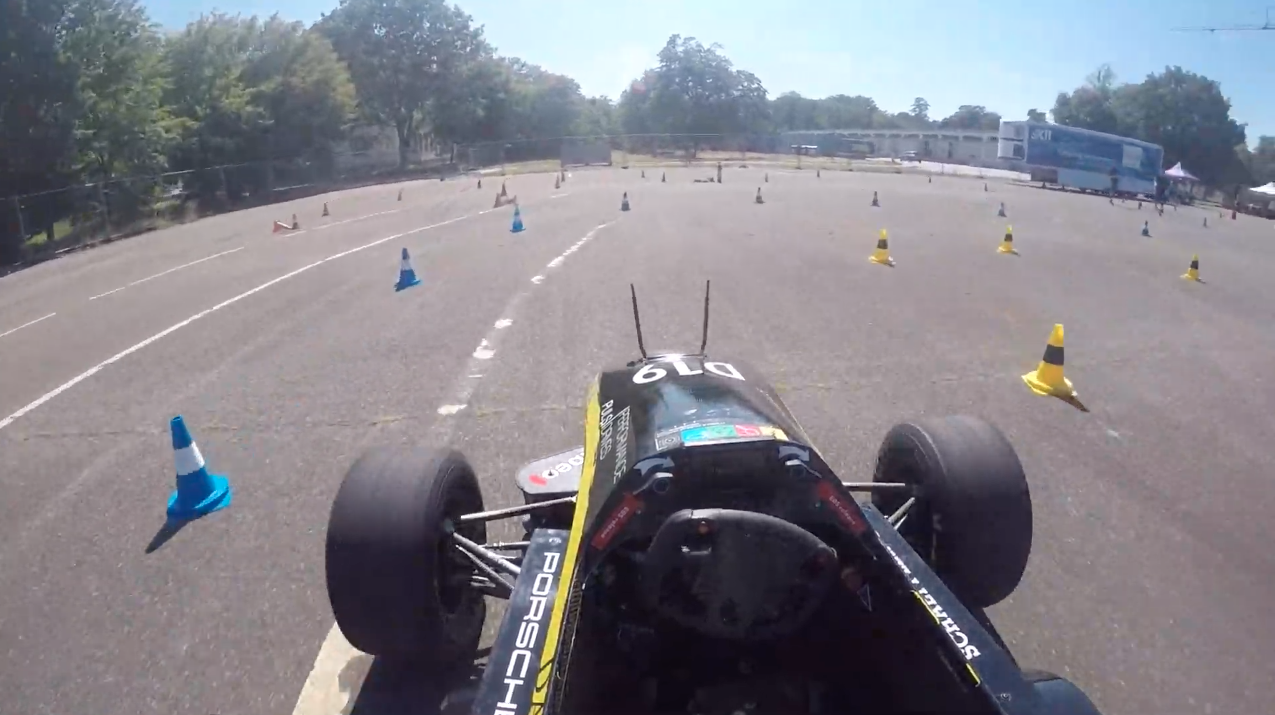lcone: (160, 412, 240, 521), (388, 243, 426, 289), (506, 202, 531, 234)
rcone: (1017, 319, 1087, 399), (866, 226, 900, 266), (1178, 250, 1206, 285), (994, 223, 1021, 255)
